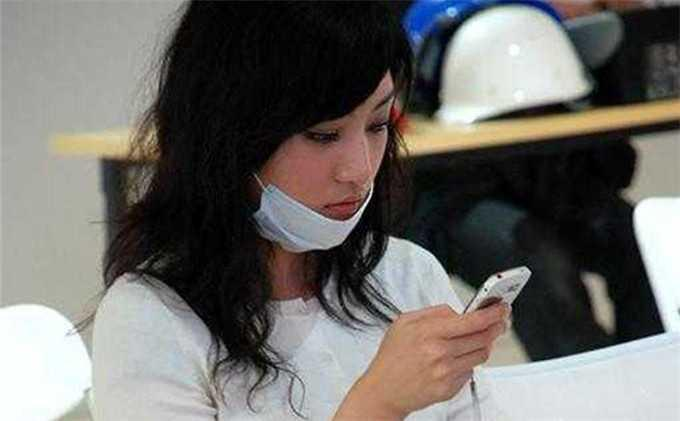WRONG: (254, 73, 392, 249)
